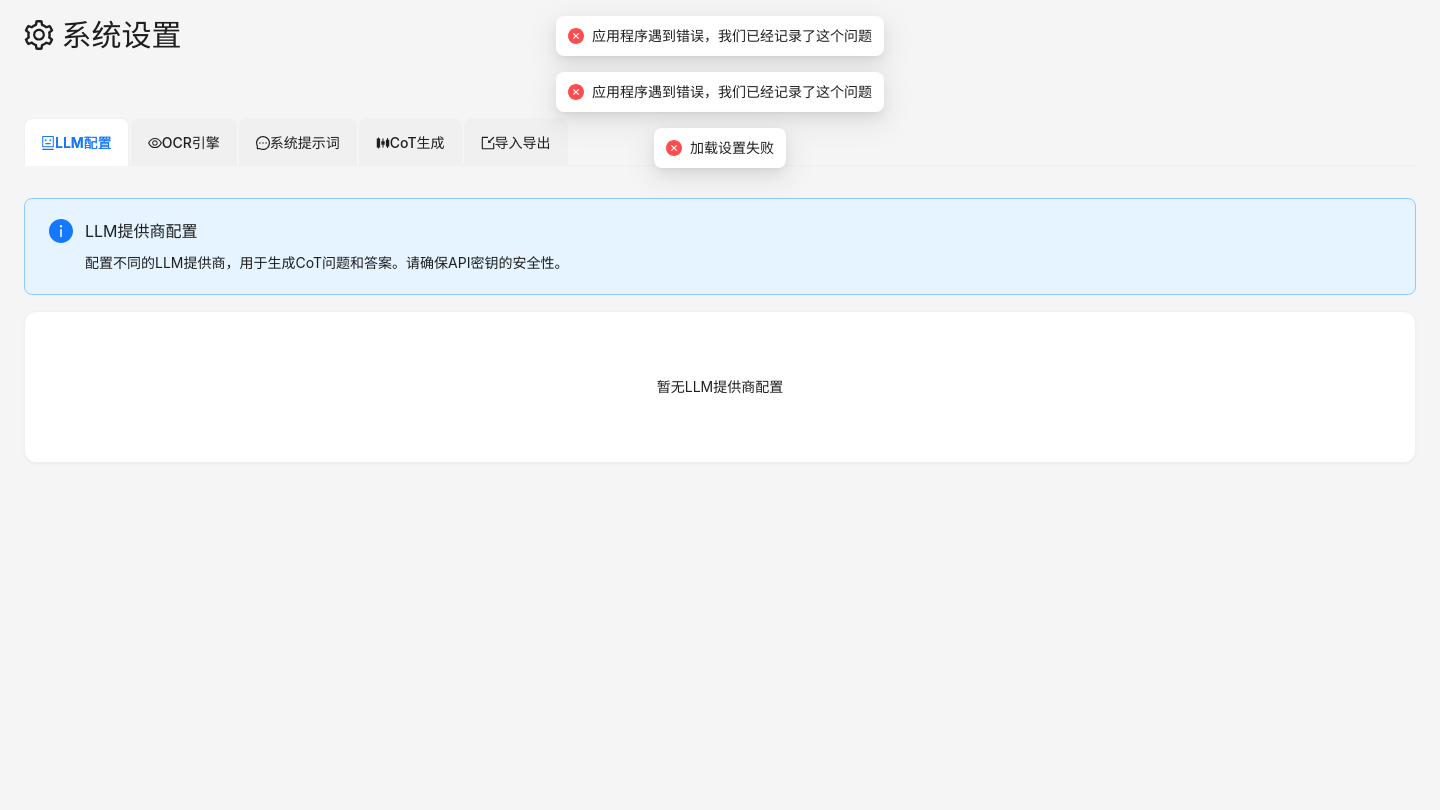
OCR Engine Configuration › shows engine descriptions
Click the tab "OCR引擎" at (184,142), box [148, 130, 220, 154]
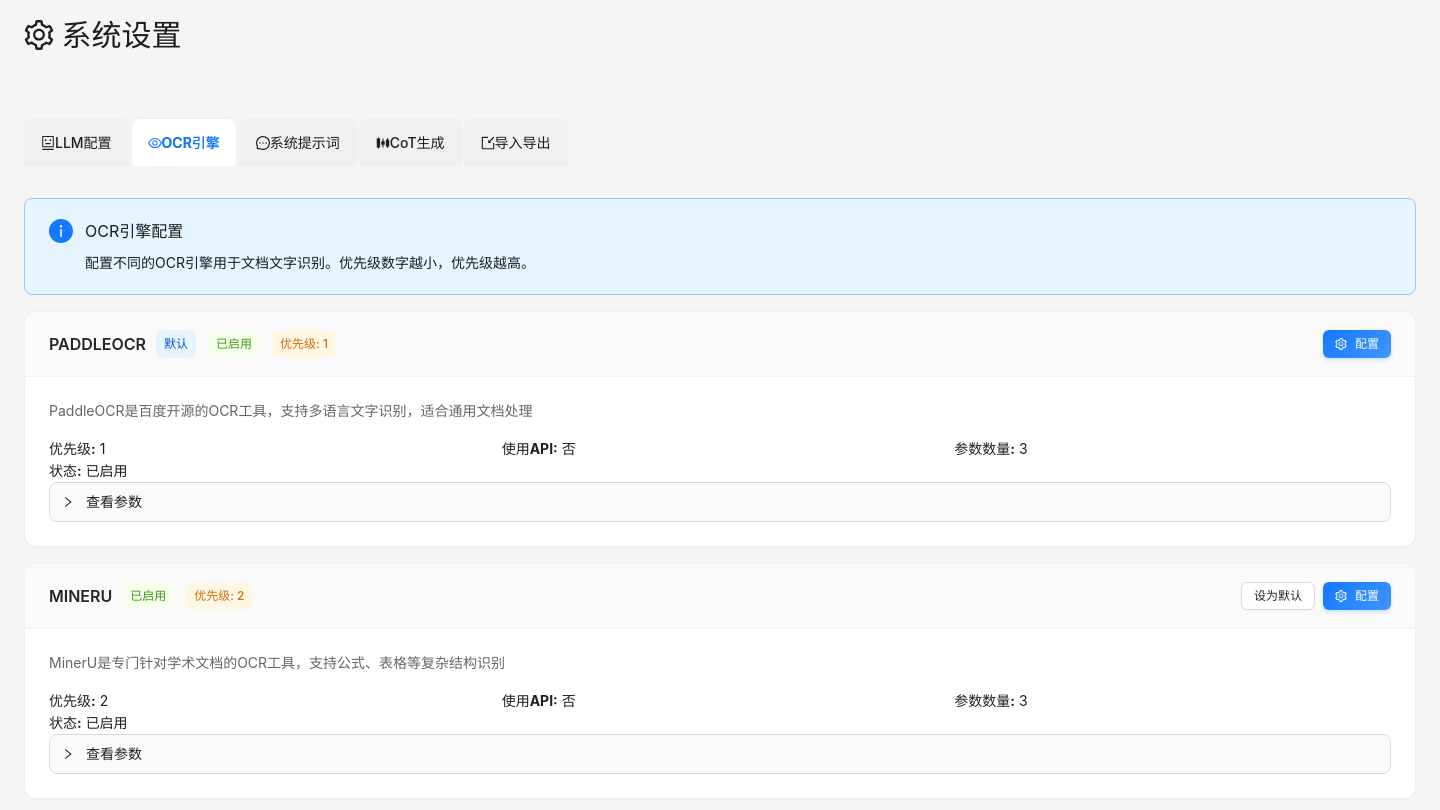
Result: the text "PaddleOCR是百度开源的OCR工具，支持多语言文字识别，适合通用文档处理" is shown at [49, 402, 532, 419]
Result: the text "MinerU是专门针对学术文档的OCR工具，支持公式、表格等复杂结构识别" is shown at [49, 654, 505, 671]
